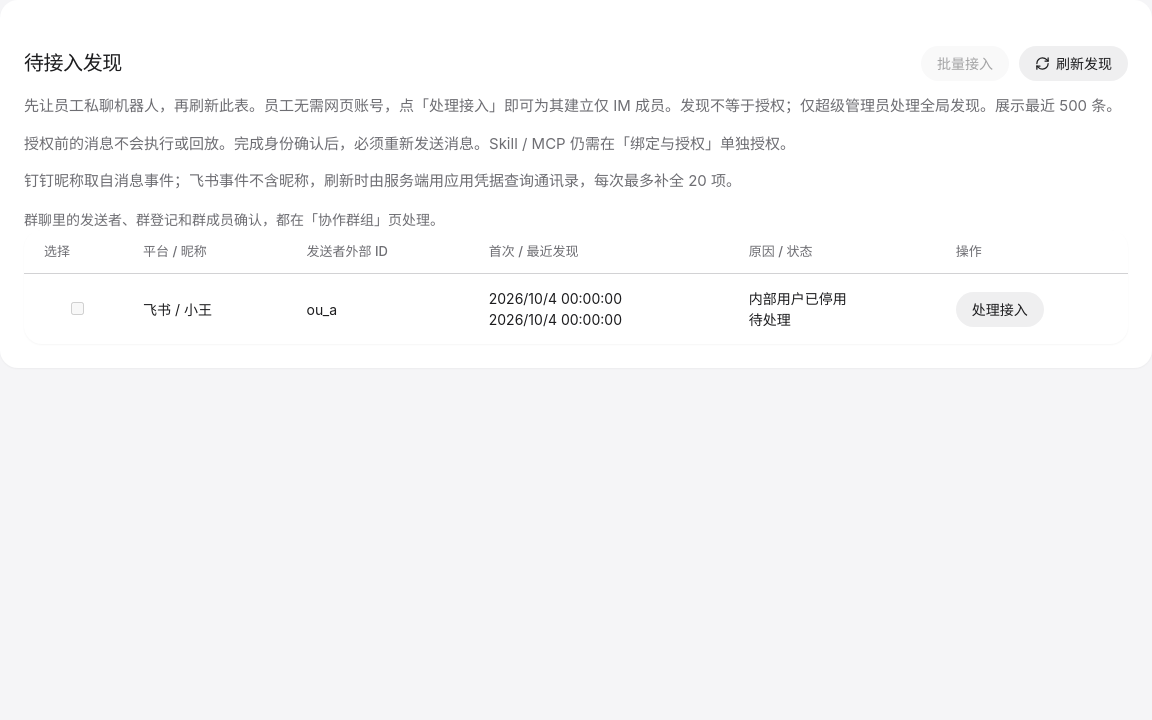
a sender that is already bound can only continue with the existing-user form
The image size is (1152, 720).
Click the button "处理接入": x=1000, y=309 left=956, top=292, right=1044, bottom=326
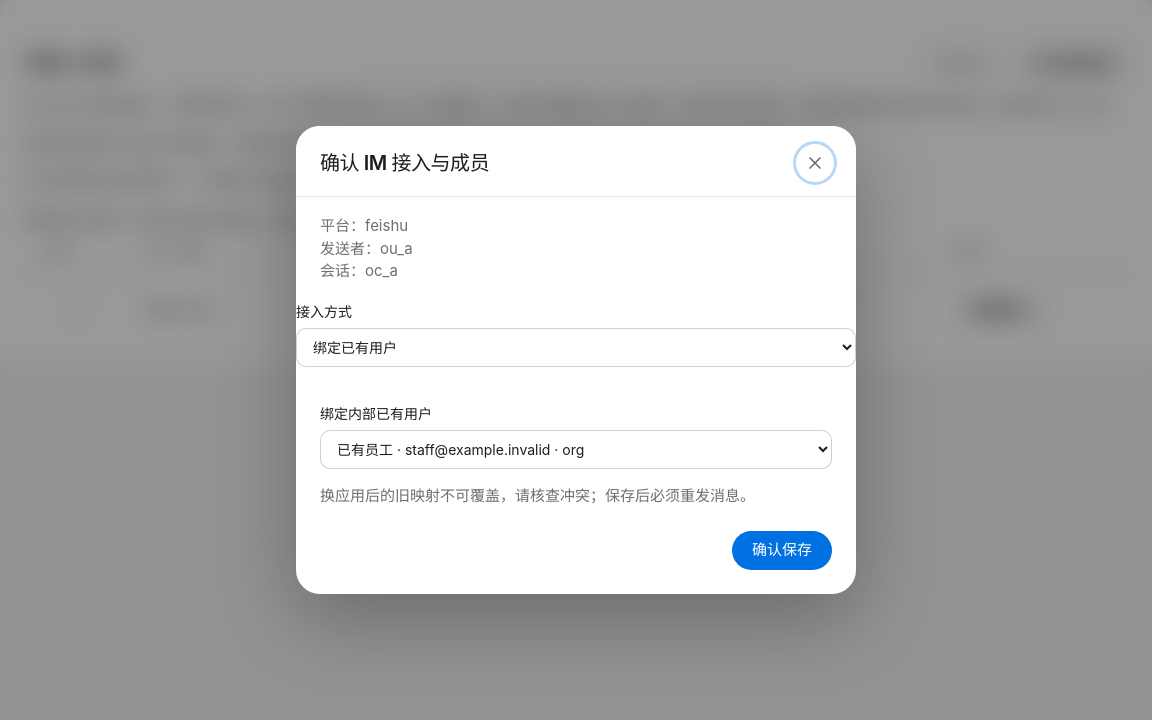
Expected: the dropdown labelled "接入方式" shows "绑定已有用户", left=296, top=328, right=856, bottom=367
Expected: the dropdown labelled "绑定内部已有用户" is shown, left=320, top=430, right=832, bottom=469
